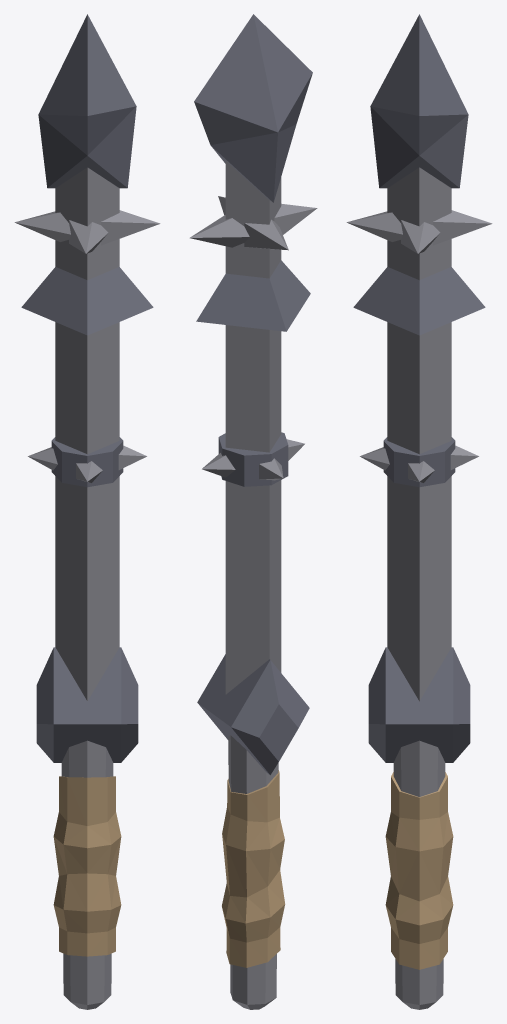
File: hammer_hammer_15.glb
3 renders of one model, left to right at view 1: azimuth 90°, elevation 25°; view 2: azimuth 210°, elevation 25°; view 3: azimuth 270°, elevation 25°, orthographic.
Visible parts, largest first — view 1: hammer_15; view 2: hammer_15; view 3: hammer_15.
Boxes of the visible parts, <box> form: hammer_15: <box>14,14,160,1009</box>; hammer_15: <box>190,14,317,1009</box>; hammer_15: <box>346,14,492,1009</box>.
Size of the model in its own units: 11.71 by 87.3 by 11.71.
1 material, 1 textured.
